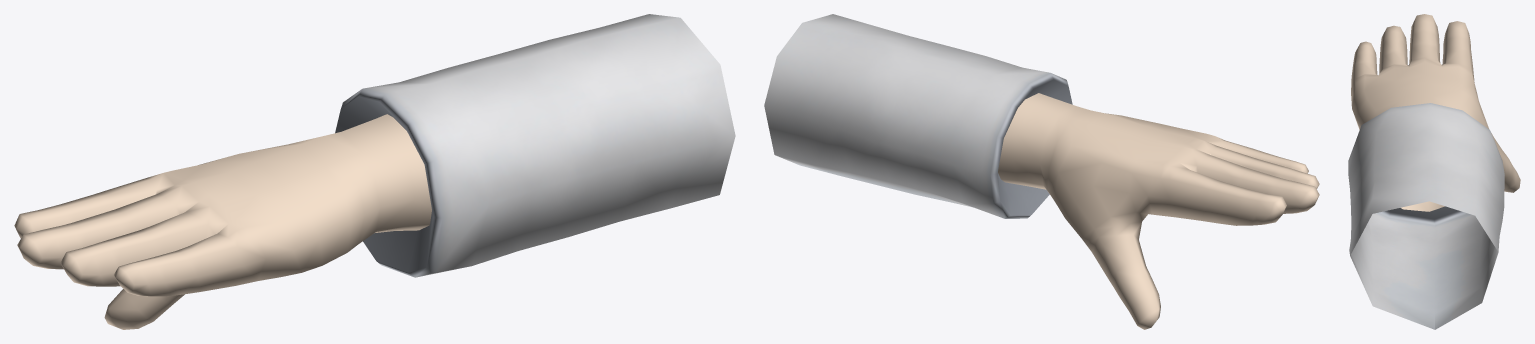
The model's file is mIzq2Oak.obj.
The picture shows the model from 3 angles, left to right: view 1: azimuth 30°, elevation 25°; view 2: azimuth 150°, elevation 25°; view 3: azimuth 270°, elevation 25°; orthographic projection. The views are drawn at different scales.
Visible parts, largest first — view 1: LForeArm, LHand, tr0004_00_topsSkin.003_body, LForeArmEX, LArm, LFingerE1, LFingerC3, LFingerD3, LFingerD1, LFingerC1, LFingerA3, LFingerE3 (+7 smaller); view 2: LForeArm, LHand, tr0004_00_topsSkin.003_body, LForeArmEX, LArm, LFingerA2, LFingerB1, LFingerA3, LFingerA1, LFingerB2, LFingerB3, LFingerC3 (+5 smaller); view 3: LForeArm, tr0004_00_topsSkin.003_body, LHand, LArm, LFingerC3, LFingerC2, LFingerB3, LFingerB1, LFingerA3, LFingerC1, LFingerB2, LFingerD3 (+6 smaller).
Boxes of the visible parts, left/top/right/bottom form: LForeArm: left=376, top=14, right=702, bottom=265; LHand: left=158, top=136, right=379, bottom=280; tr0004_00_topsSkin.003_body: left=335, top=82, right=489, bottom=277; LForeArmEX: left=325, top=119, right=423, bottom=243; LArm: left=632, top=14, right=735, bottom=208; LFingerE1: left=183, top=224, right=265, bottom=294; LFingerC3: left=17, top=222, right=86, bottom=269; LFingerD3: left=60, top=240, right=120, bottom=286; LFingerD1: left=150, top=203, right=228, bottom=254; LFingerC1: left=115, top=186, right=198, bottom=234; LFingerA3: left=104, top=289, right=176, bottom=329; LFingerE3: left=114, top=257, right=165, bottom=296; LForeArm: left=764, top=23, right=1031, bottom=207; LHand: left=1040, top=110, right=1214, bottom=223; tr0004_00_topsSkin.003_body: left=953, top=67, right=1072, bottom=218; LForeArmEX: left=1013, top=93, right=1103, bottom=189; LArm: left=764, top=14, right=870, bottom=165; LFingerA2: left=1081, top=217, right=1145, bottom=277; LFingerB1: left=1153, top=162, right=1217, bottom=223; LFingerA3: left=1108, top=261, right=1160, bottom=329; LFingerA1: left=1055, top=186, right=1110, bottom=238; LFingerB2: left=1205, top=180, right=1250, bottom=225; LFingerB3: left=1239, top=189, right=1286, bottom=225; LFingerC3: left=1266, top=177, right=1319, bottom=213; LForeArm: left=1348, top=119, right=1504, bottom=329; tr0004_00_topsSkin.003_body: left=1348, top=103, right=1504, bottom=242; LHand: left=1351, top=58, right=1488, bottom=129; LArm: left=1349, top=184, right=1498, bottom=329; LFingerC3: left=1410, top=14, right=1439, bottom=43; LFingerC2: left=1409, top=32, right=1439, bottom=59; LFingerB3: left=1443, top=21, right=1470, bottom=49; LFingerB1: left=1442, top=51, right=1474, bottom=82; LFingerA3: left=1503, top=151, right=1520, bottom=192; LFingerC1: left=1408, top=46, right=1441, bottom=66; LFingerB2: left=1442, top=37, right=1472, bottom=65; LFingerD3: left=1380, top=25, right=1407, bottom=52.
Bounding box in the file's own units: 4.4 × 1.46 × 1.39.
